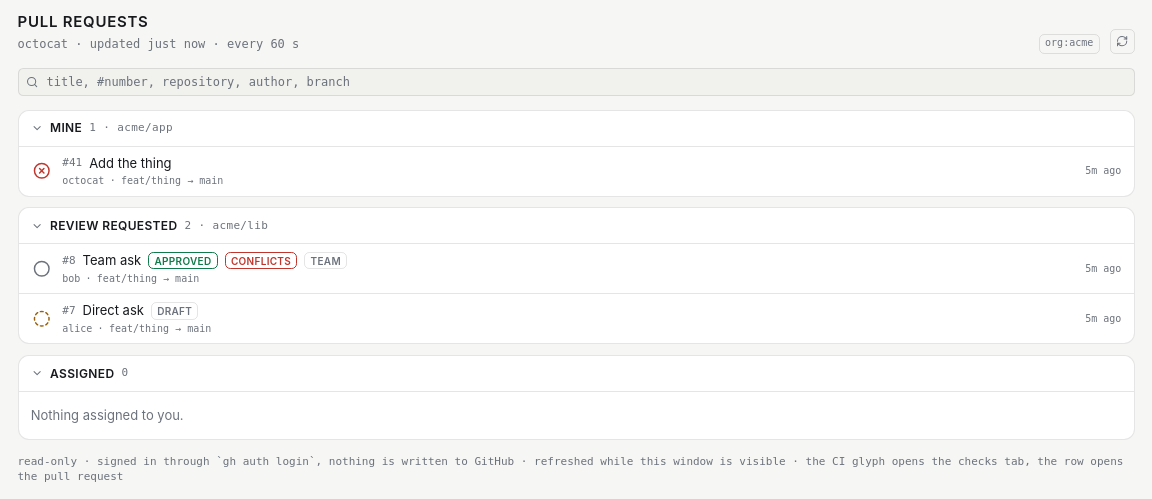
Github › filters every list from one search field and says how many matched
This screenshot has width=1152, height=499.
expect the text "Add the thing" is shown: met, box [89,154,172,172]
Type "acme/lib" into the search field named "Search pull requests".
click(576, 82); type("acme/lib")  # box [18,68,1134,96]
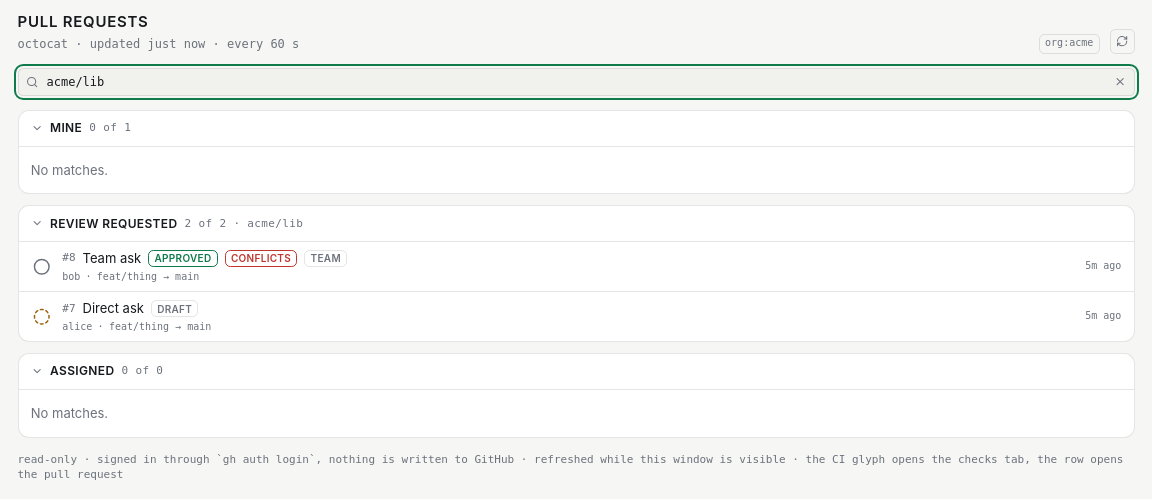
expect the heading "Mine 0 of 1" is shown: met, box [18,111,1134,146]
expect the 1st text "No matches." is shown: met, box [31,162,108,178]
expect the heading "Review requested 2 of 2 · acme/lib" is shown: met, box [18,206,1134,241]
Replace the text in the search field named "Search pull requests" with "team ask" at {"x": 576, "y": 82}, box [18,68,1134,96]
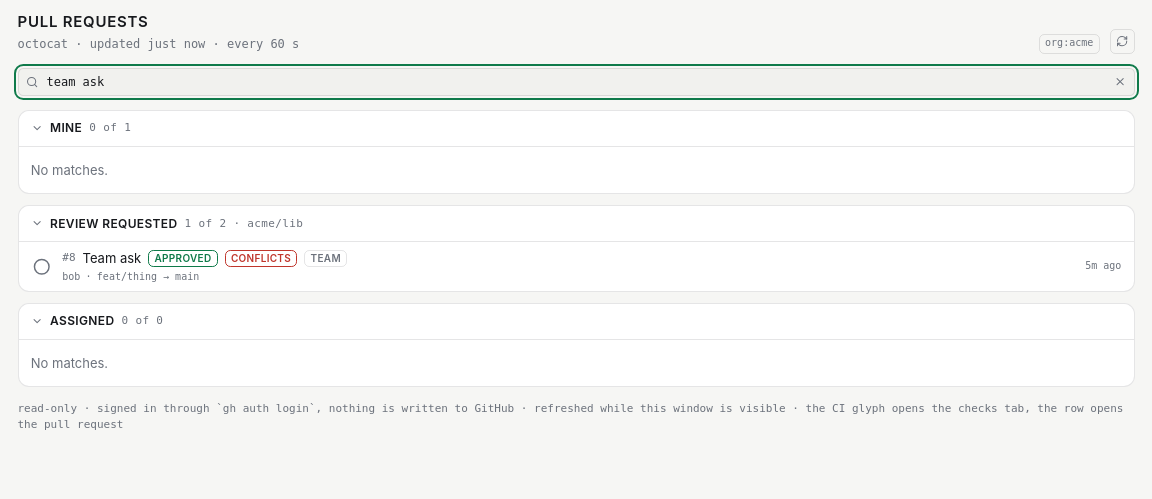
expect the text "Team ask" is shown: met, box [82,249,141,268]
expect the number of list items is 1: met, box [18,242,1134,291]
Press Escape
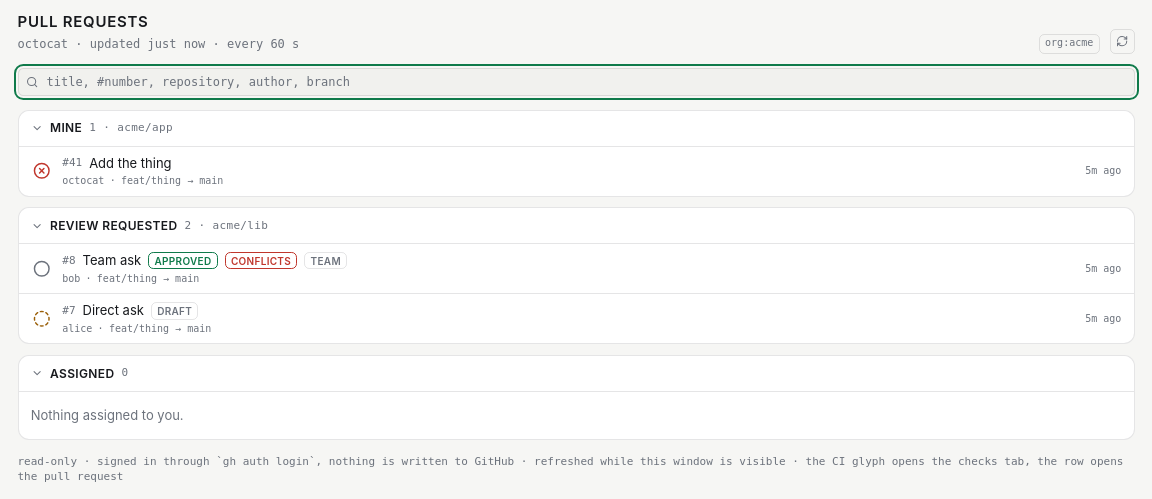
expect the text "Add the thing" is shown: met, box [89,154,172,172]
